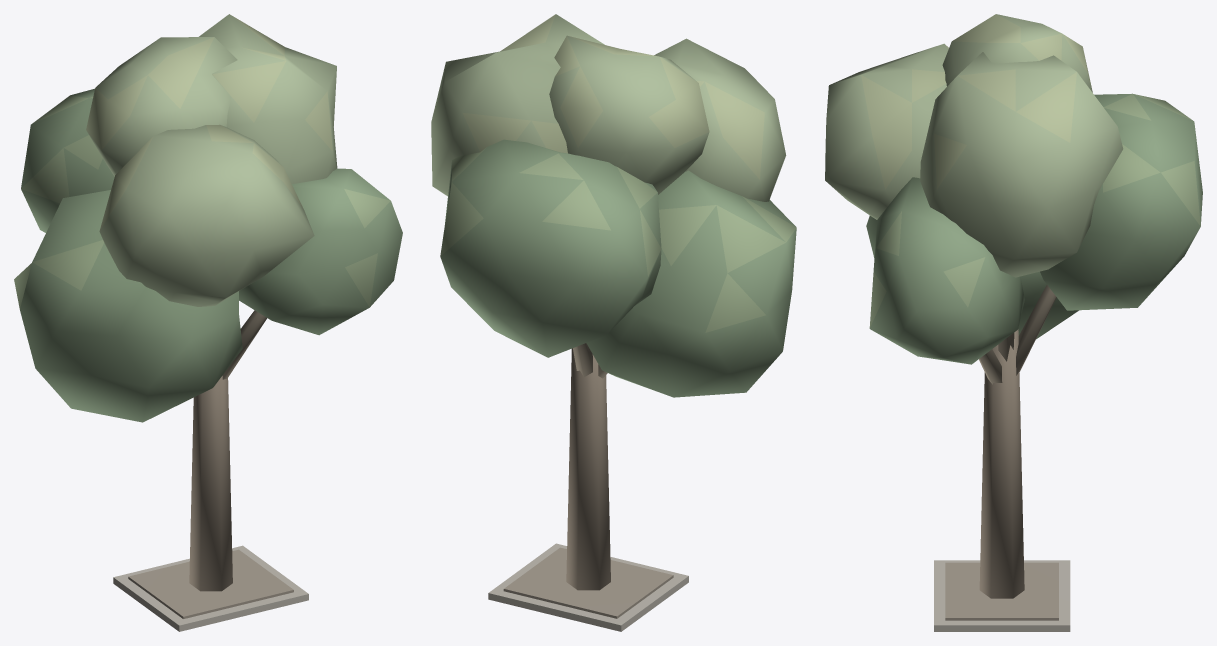
The model's file is tree.glb.
The picture shows the model from 3 angles, left to right: view 1: azimuth 30°, elevation 25°; view 2: azimuth 150°, elevation 25°; view 3: azimuth 270°, elevation 25°; orthographic projection. The views are drawn at different scales.
Visible parts, largest first — view 1: tree; view 2: tree; view 3: tree.
Part boxes in pixels (box(x1,y1,x2,y2)): tree: box(14, 14, 402, 631); tree: box(431, 14, 796, 631); tree: box(825, 14, 1202, 631).
Bounding box in the file's own units: 0.882 × 1.37 × 0.8325.
